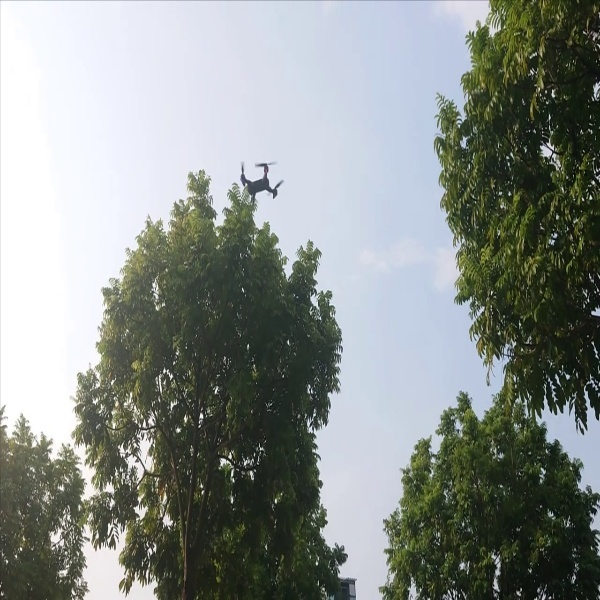drone: (229, 149, 287, 211)
